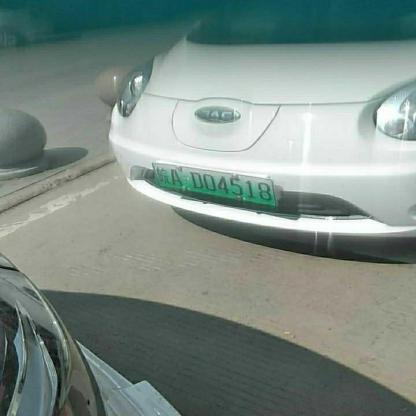lp: (152, 163, 276, 205)
